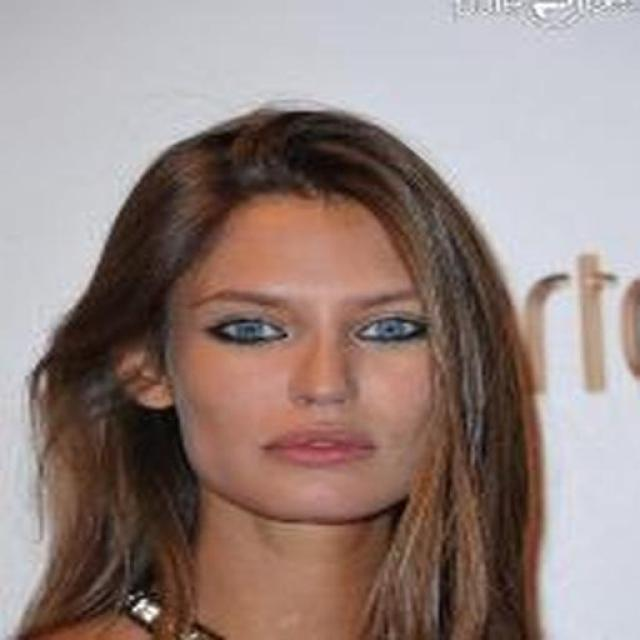bareface: (137, 125, 485, 520)
